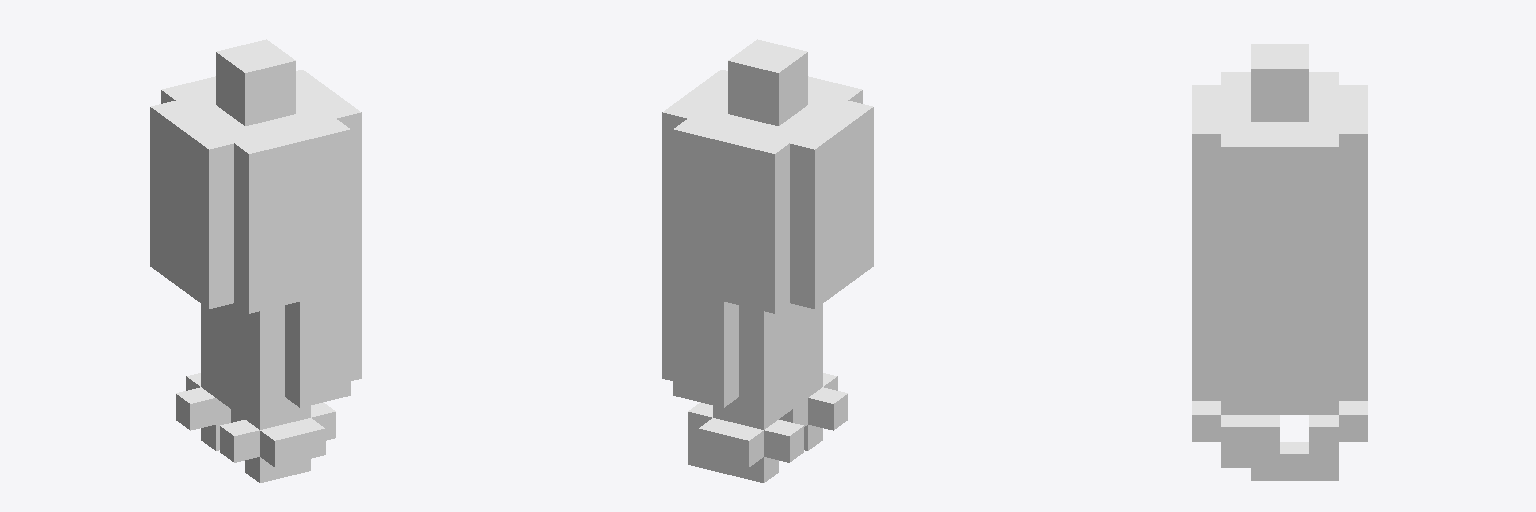
The model's file is Arm-9.obj.
The picture shows the model from 3 angles: view 1: azimuth 30°, elevation 25°; view 2: azimuth 150°, elevation 25°; view 3: azimuth 270°, elevation 25°; orthographic projection.
Parts seen in each view (by area): view 1: object 1; view 2: object 1; view 3: object 1.
Part boxes in pixels (left/top/right/bottom): object 1: left=150, top=39, right=361, bottom=482; object 1: left=662, top=39, right=873, bottom=482; object 1: left=1192, top=44, right=1367, bottom=480.
Bounding box in the file's own units: 0.6 × 1.5 × 0.6.